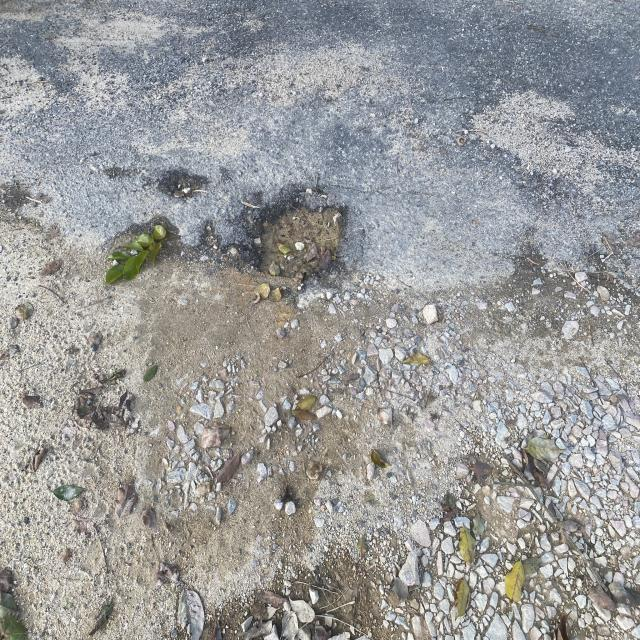pothole: (81, 166, 412, 295)
